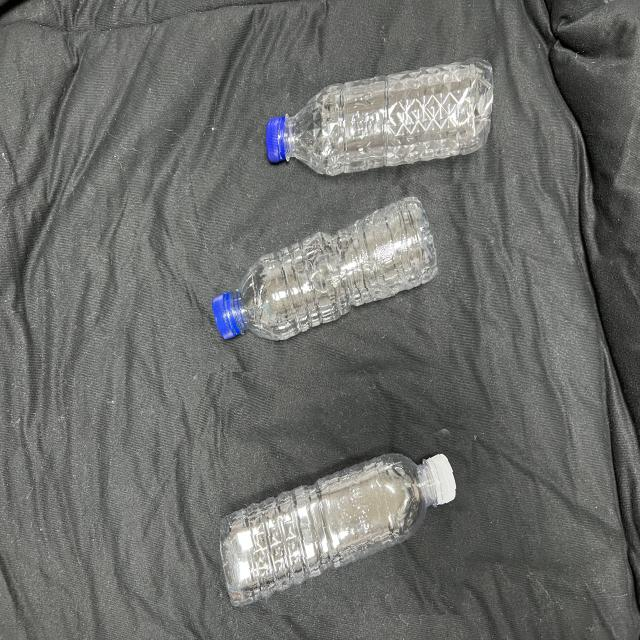plastic bottle: (192, 185, 449, 373), (220, 429, 468, 615), (263, 55, 499, 188)
